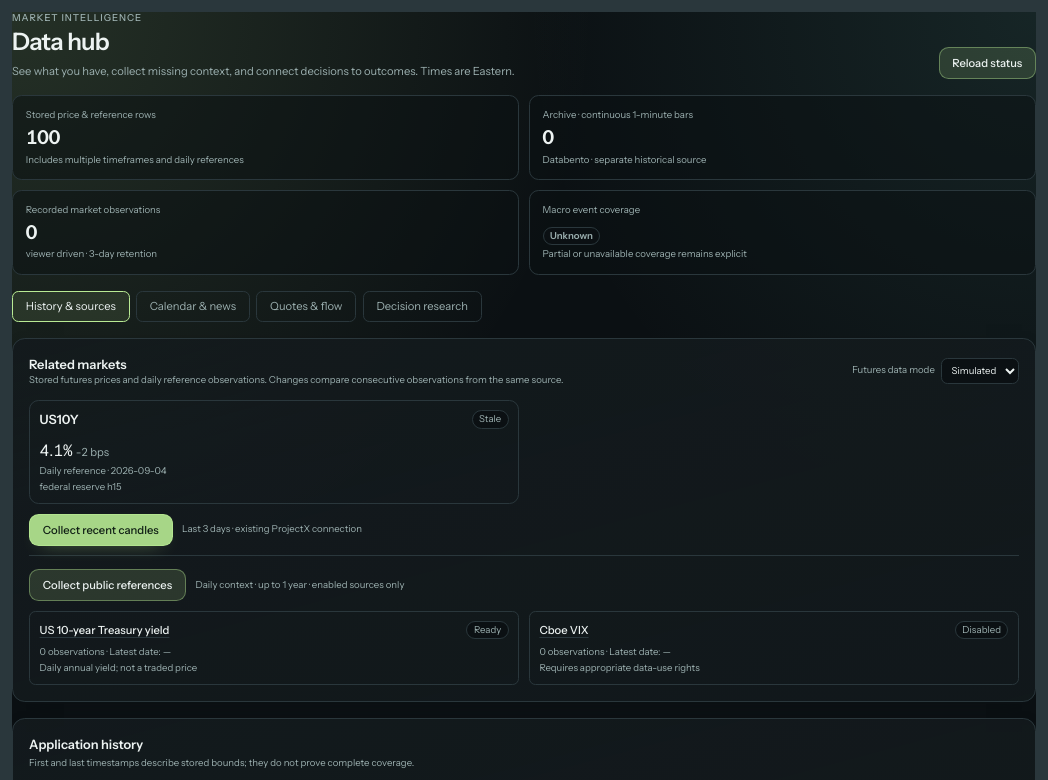
Scenario: Data hub › refreshes only enabled public sources and renders yields in basis points
The width and height of the screenshot is (1048, 780).
Check: the text "4.1%" is shown, box [40,440,109,460]
Check: the text "-2 bps" is shown, box [76,445,109,459]
Click the button "Collect public references" at point(107, 585), box [29,569,186,601]
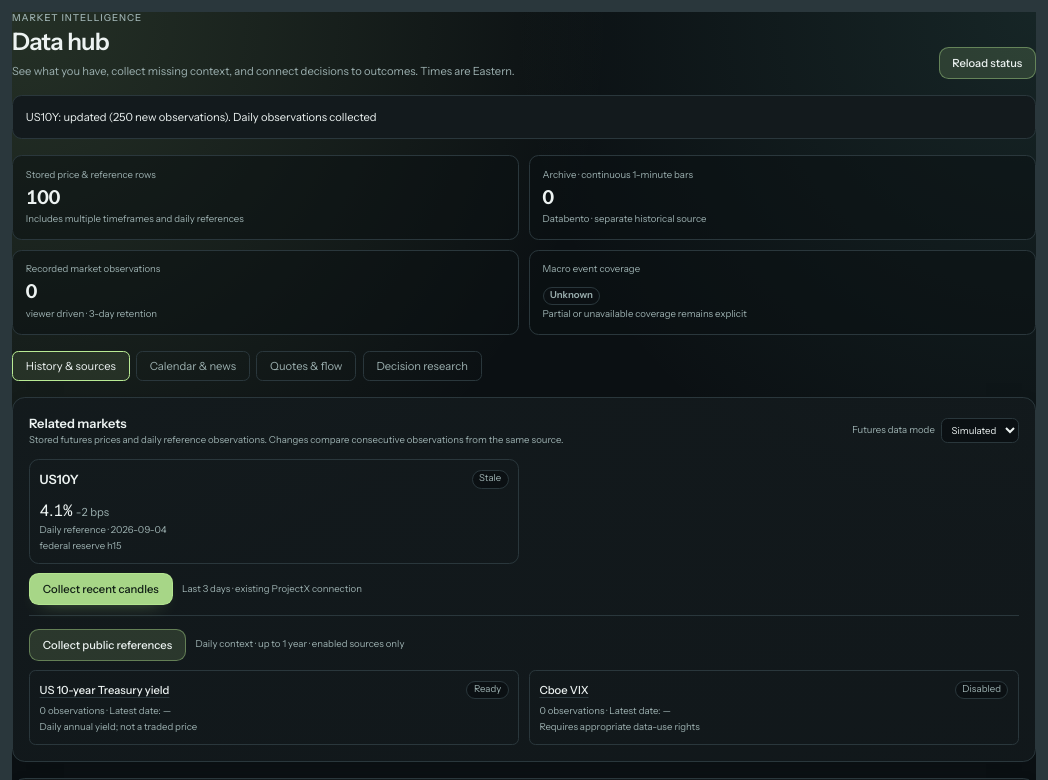
Check: the text "US10Y: updated (250 new observations). Daily observations collected" is shown, box [12,95,1036,139]
